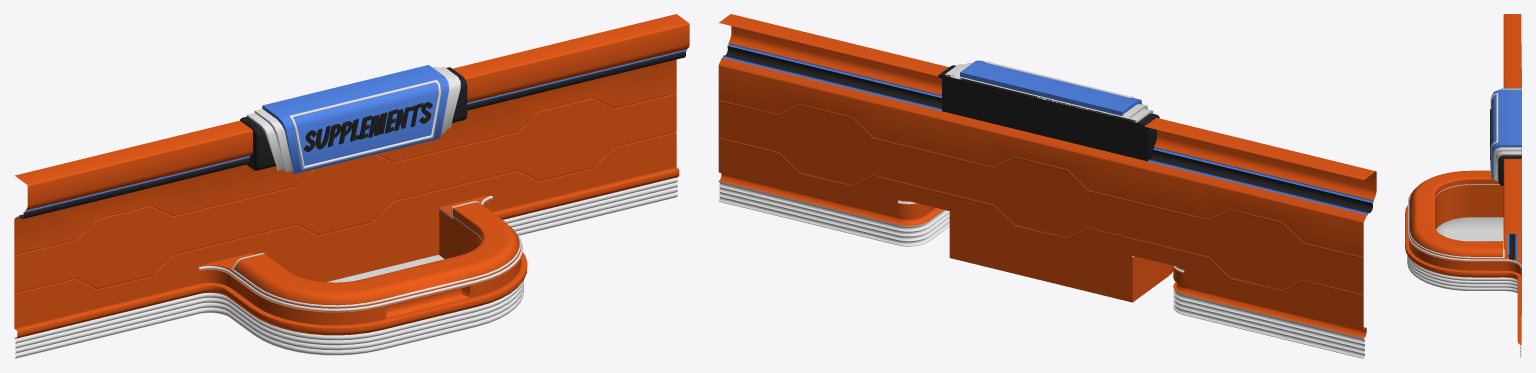
File: GymWallCounter.fbx
The picture shows the model from 3 angles, left to right: view 1: azimuth 30°, elevation 25°; view 2: azimuth 150°, elevation 25°; view 3: azimuth 270°, elevation 25°; orthographic projection. The views are drawn at different scales.
Visible parts, largest first — view 1: WallCounter; view 2: WallCounter; view 3: WallCounter.
Boxes of the visible parts, box(x1,y1,x2,y2) form: WallCounter: box(14, 14, 689, 358); WallCounter: box(718, 14, 1376, 358); WallCounter: box(1405, 14, 1521, 358).
Size of the model in its own units: 1734 by 484 by 389.
